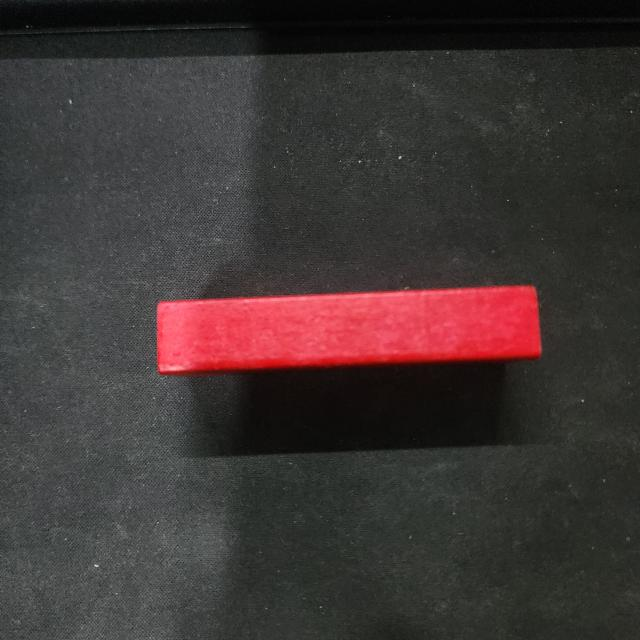red: (155, 282, 540, 376)
